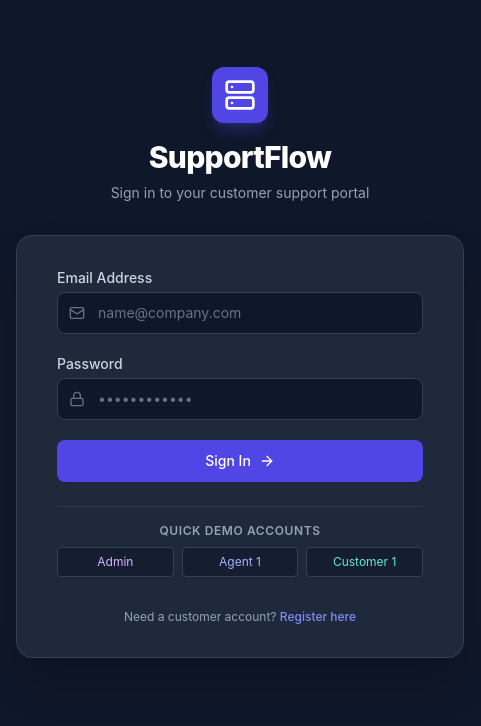
Scenario: Login Page Component › displays error alert on login failure
This screenshot has width=481, height=726.
Type "bad@demo.test" into the field labelled "Email Address" at (240, 312), box 57,292 -> 423,334
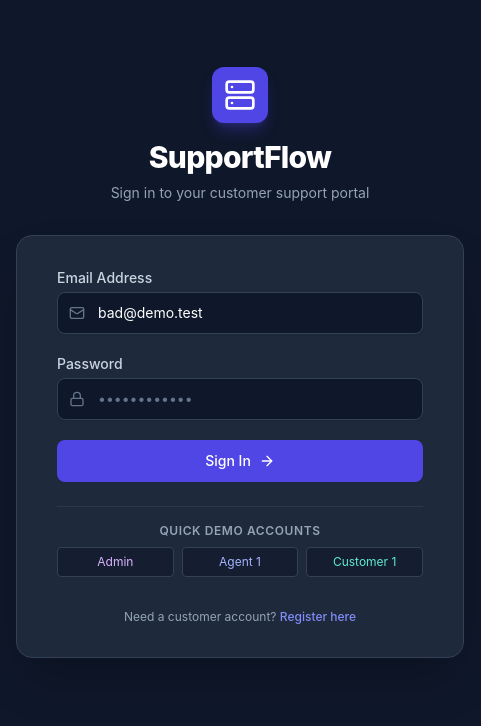
Type "WrongPass123!" into the password field labelled "Password" at (240, 398), box 57,378 -> 423,420
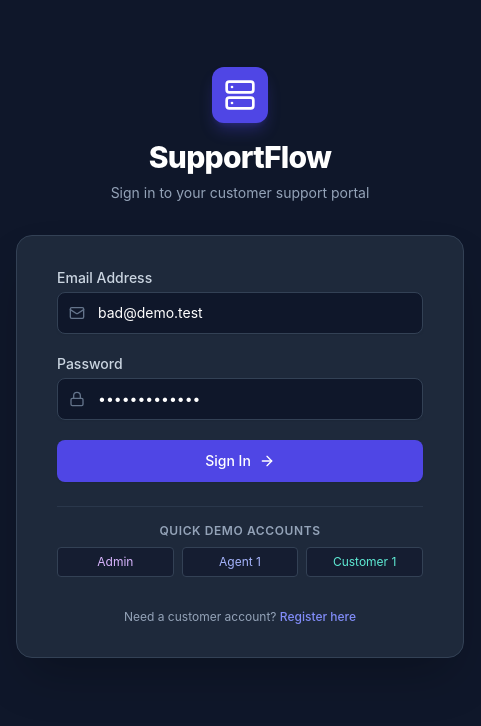
Click the button "Sign In" at (240, 460), box 57,440 -> 423,482
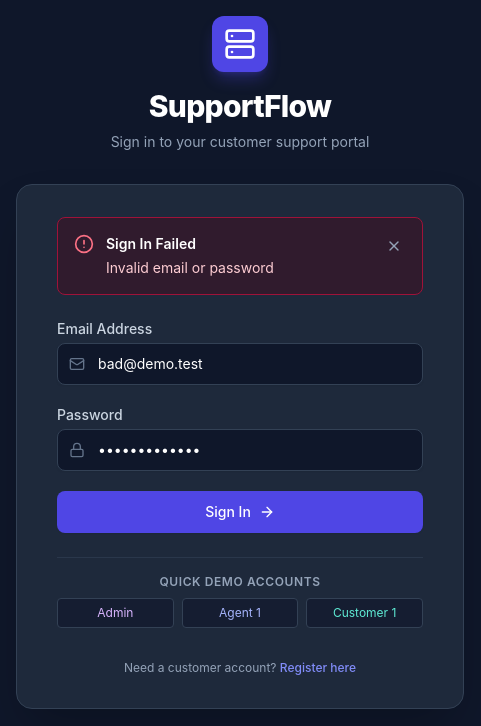
Check: the text "Invalid email or password" is shown, box 106,258 -> 274,276
